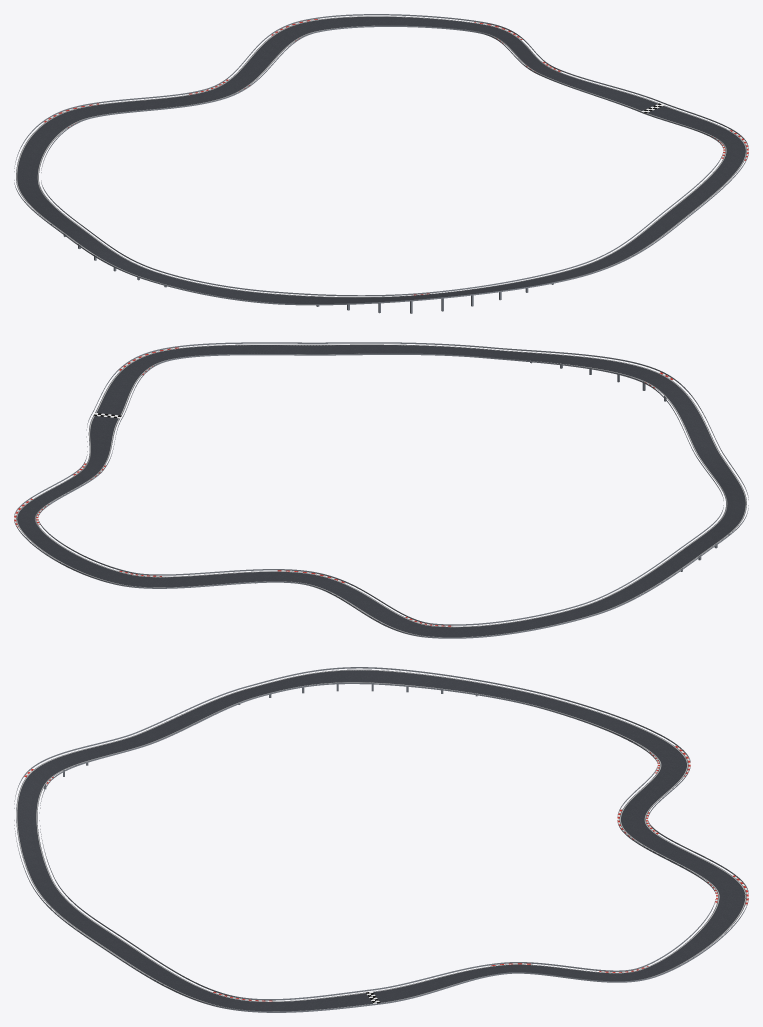
File: track_asphalt.glb
3 renders of one model, top to bottom at view 1: azimuth 30°, elevation 25°; view 2: azimuth 150°, elevation 25°; view 3: azimuth 270°, elevation 25°, orthographic. The views are drawn at different scales.
Parts seen in each view (by area): view 1: Road, Walls, Curbs; view 2: Road, Walls, Curbs; view 3: Road, Walls, Curbs.
Boxes of the visible parts, <box> form: Road: <box>16,16,746,303</box>; Walls: <box>14,14,748,305</box>; Curbs: <box>43,18,748,295</box>; Road: <box>16,344,746,637</box>; Walls: <box>14,342,748,638</box>; Curbs: <box>14,347,673,626</box>; Road: <box>16,669,746,1011</box>; Walls: <box>14,667,748,1012</box>; Curbs: <box>24,745,748,1001</box>.
Size of what is drawn, in the model's own units: 495 by 14.43 by 463.
5 materials, 3 textured.
